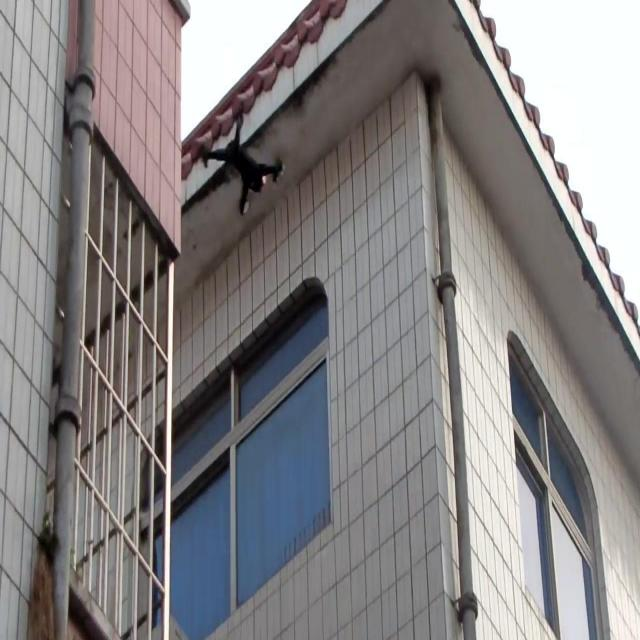UAV: (198, 106, 286, 220)
